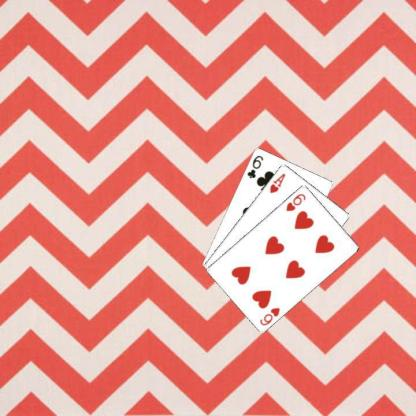6C: (244, 153, 264, 179)
6H: (257, 304, 281, 326), (284, 191, 306, 212)
AH: (267, 171, 287, 194)
